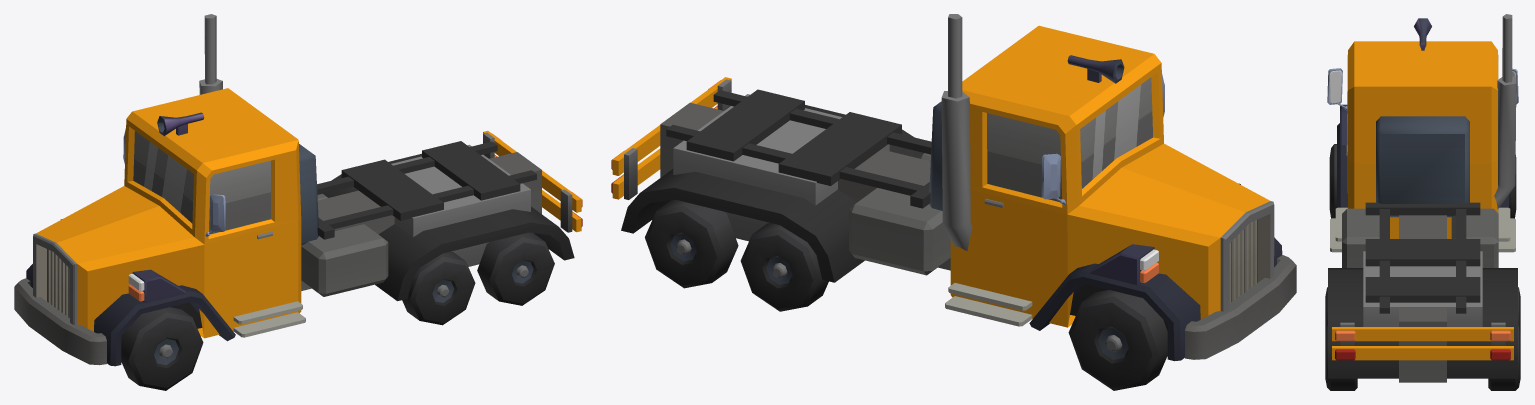
File: Truck_B.fbx
3 views of the same model, side by side, from view 1: azimuth 30°, elevation 25°; view 2: azimuth 150°, elevation 25°; view 3: azimuth 270°, elevation 25° (orthographic). The views are drawn at different scales.
Visible parts, largest first — view 1: Truck_B, FL, RM, ML; view 2: Truck_B, FR, RL, MR; view 3: Truck_B, RL, RM, FL, FR.
Boxes of the visible parts, box(x1,y1,x2,y2) form: Truck_B: box(14, 14, 582, 366); FL: box(121, 307, 203, 390); RM: box(477, 232, 554, 305); ML: box(402, 251, 475, 325); Truck_B: box(611, 14, 1296, 361); FR: box(1068, 290, 1167, 390); RL: box(645, 200, 738, 288); MR: box(740, 223, 828, 311); Truck_B: box(1327, 14, 1518, 382); RL: box(1488, 325, 1520, 390); RM: box(1325, 325, 1357, 390); FL: box(1329, 144, 1336, 218); FR: box(1509, 155, 1516, 218).
Size of the model in its own units: 5.24 by 2.81 by 1.85.
